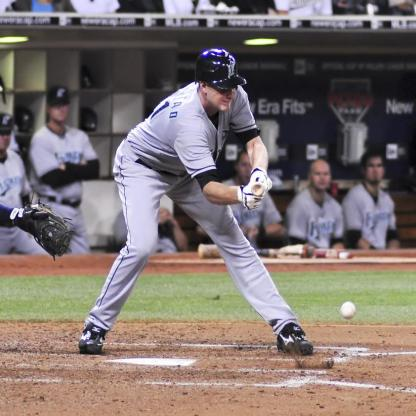Helmet: (193, 46, 242, 105), (9, 107, 35, 135), (47, 86, 74, 108), (78, 107, 100, 132)
